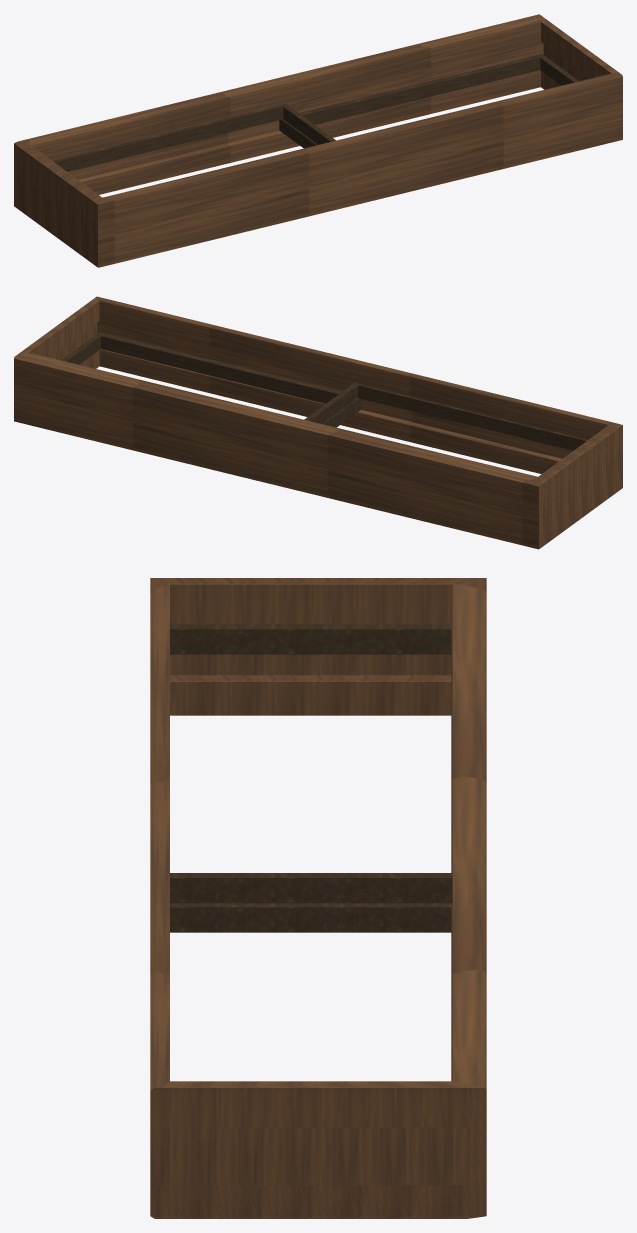
The model's file is Window 2.fbx.
The picture shows the model from 3 angles, top to bottom: view 1: azimuth 30°, elevation 25°; view 2: azimuth 150°, elevation 25°; view 3: azimuth 270°, elevation 25°; orthographic projection. The views are drawn at different scales.
Visible parts, largest first — view 1: WindowFrame.001, WindowTop.003, WindowTop.002; view 2: WindowFrame.001, WindowTop.003, WindowTop.002; view 3: WindowFrame.001, WindowTop.002, WindowTop.003.
Boxes of the visible parts, <box> form: WindowFrame.001: <box>14,14,622,267</box>; WindowTop.003: <box>279,54,578,148</box>; WindowTop.002: <box>53,104,335,171</box>; WindowFrame.001: <box>14,296,622,549</box>; WindowTop.003: <box>61,332,361,427</box>; WindowTop.002: <box>304,383,587,450</box>; WindowFrame.001: <box>150,578,486,1218</box>; WindowTop.002: <box>170,624,452,903</box>; WindowTop.003: <box>170,903,452,1081</box>.
Bounding box in the file's own units: 385 × 45.87 × 107.
